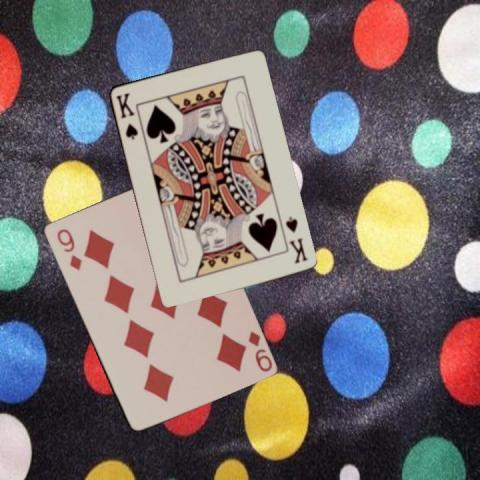9d: (53, 225, 83, 272), (245, 328, 273, 374)
Ks: (282, 213, 309, 265), (113, 89, 139, 141)
